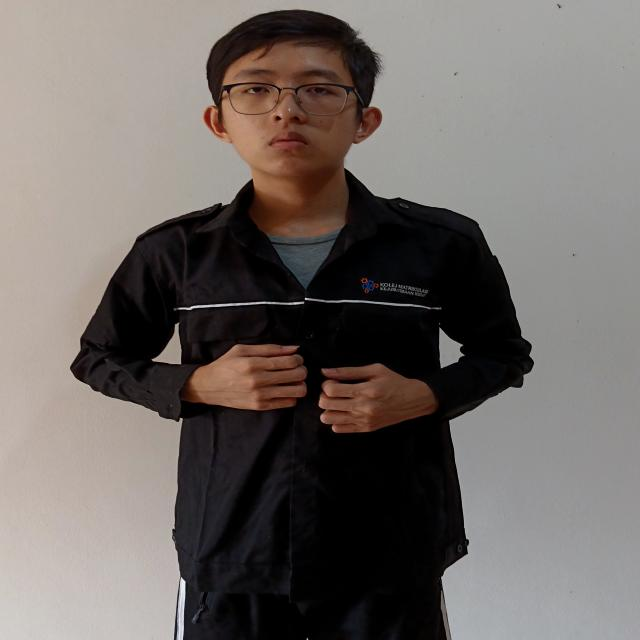person_with_labcoat: (72, 10, 532, 640)
